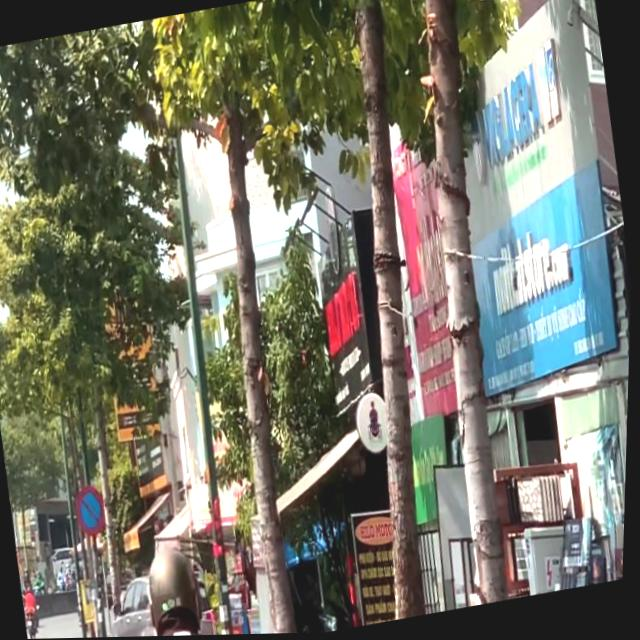Cam do xe: (75, 483, 112, 539)
